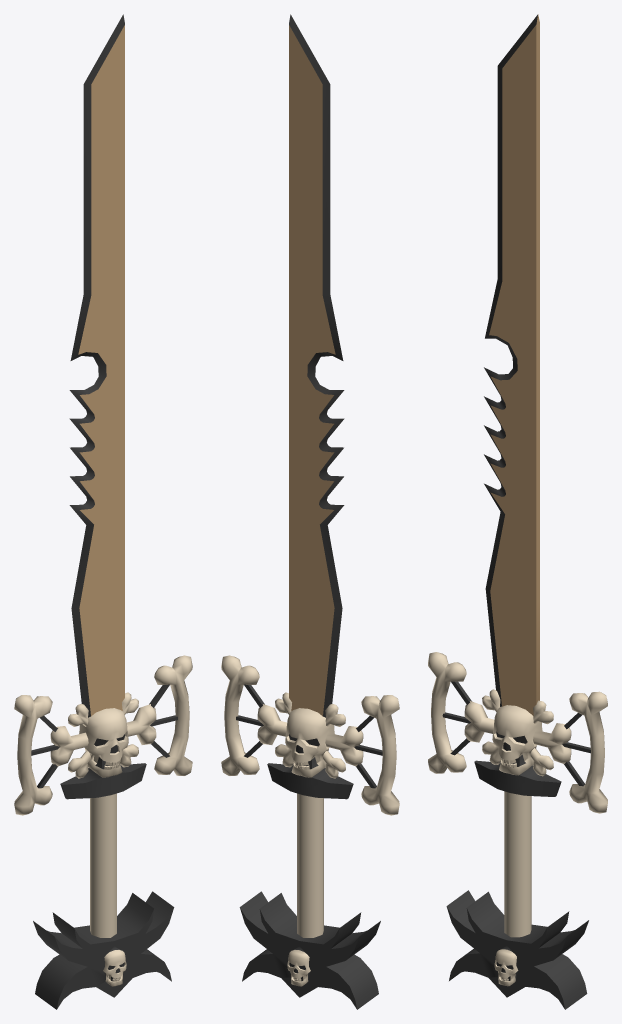
The model's file is BoneSword.fbx.
3 views of the same model, side by side, from view 1: azimuth 30°, elevation 25°; view 2: azimuth 150°, elevation 25°; view 3: azimuth 330°, elevation 25° (orthographic).
Parts seen in each view (by area): view 1: BoneSword; view 2: BoneSword; view 3: BoneSword.
Part boxes in pixels (x1,y1,x2,y2): BoneSword: (14, 14, 192, 1009); BoneSword: (221, 14, 399, 1009); BoneSword: (428, 14, 607, 1009).
Size of the model in its own units: 33.91 by 177 by 10.12.
